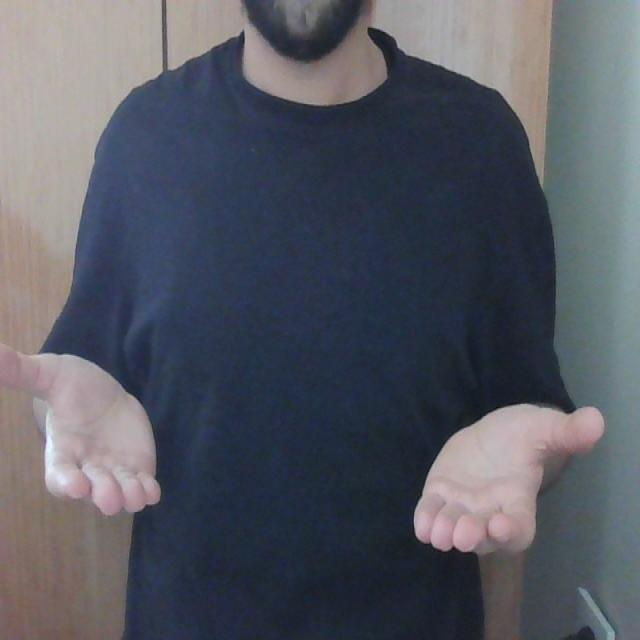Evet: (0, 337, 607, 560)
